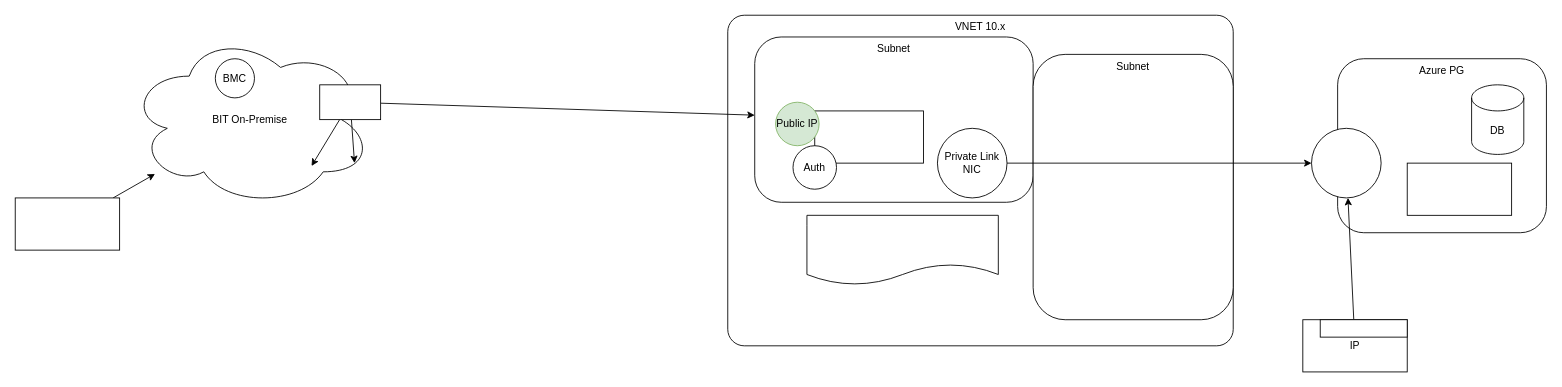
This 1562x387 diagram has some shape labels left out. The centre of each missing label's shape, as x and y in pixels:
App Service: the point at 869,136
Endpoint: the point at 1346,162
FW/Proxy: the point at 350,102
Network Security Groups source: internet/any target: public deny: the point at 902,249
User: the point at 67,223
v6: VNET/Subnet: the point at 1363,328
